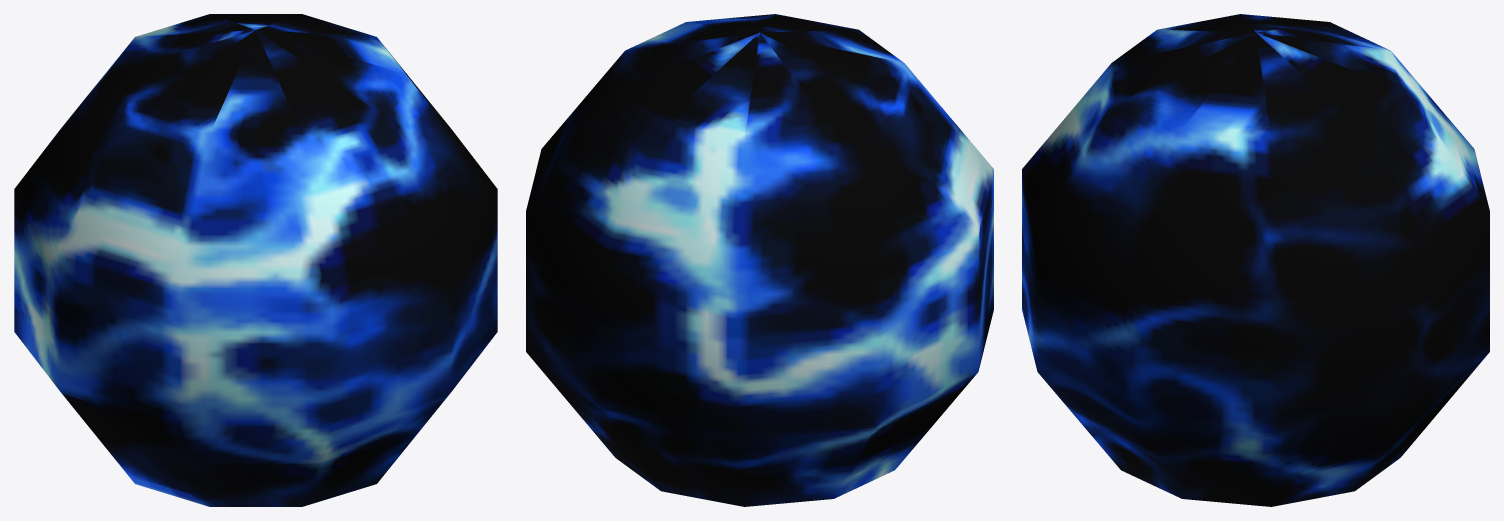
Rendered from qiu.FBX.
3 renders of one model, left to right at view 1: azimuth 30°, elevation 25°; view 2: azimuth 150°, elevation 25°; view 3: azimuth 270°, elevation 25°, orthographic.
Visible parts, largest first — view 1: Sphere01; view 2: Sphere01; view 3: Sphere01.
Boxes of the visible parts, x1,y1,x2,y2 form: Sphere01: [14, 14, 497, 506]; Sphere01: [526, 14, 993, 506]; Sphere01: [1022, 14, 1489, 506].
Size of the model in its own units: 28.75 by 30.39 by 28.27.
1 material, 1 textured.
